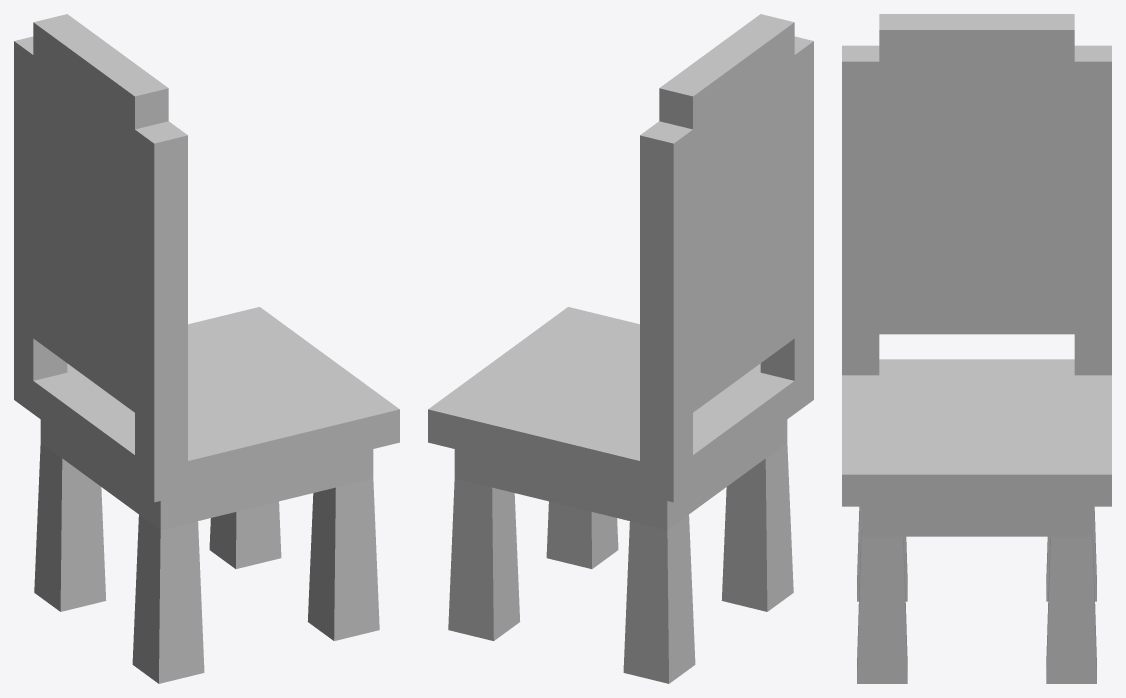
Rendered from Chair.glb.
3 views of the same model, side by side, from view 1: azimuth 30°, elevation 25°; view 2: azimuth 150°, elevation 25°; view 3: azimuth 270°, elevation 25° (orthographic). The views are drawn at different scales.
Visible parts, largest first — view 1: Chair; view 2: Chair; view 3: Chair.
Part boxes in pixels (bbox=[...]): Chair: bbox=[14, 14, 399, 683]; Chair: bbox=[428, 14, 813, 683]; Chair: bbox=[842, 14, 1111, 683].
Bounding box in the file's own units: 0.4379 × 0.9913 × 0.4326.
Materials: 2 (2 with a texture image).
